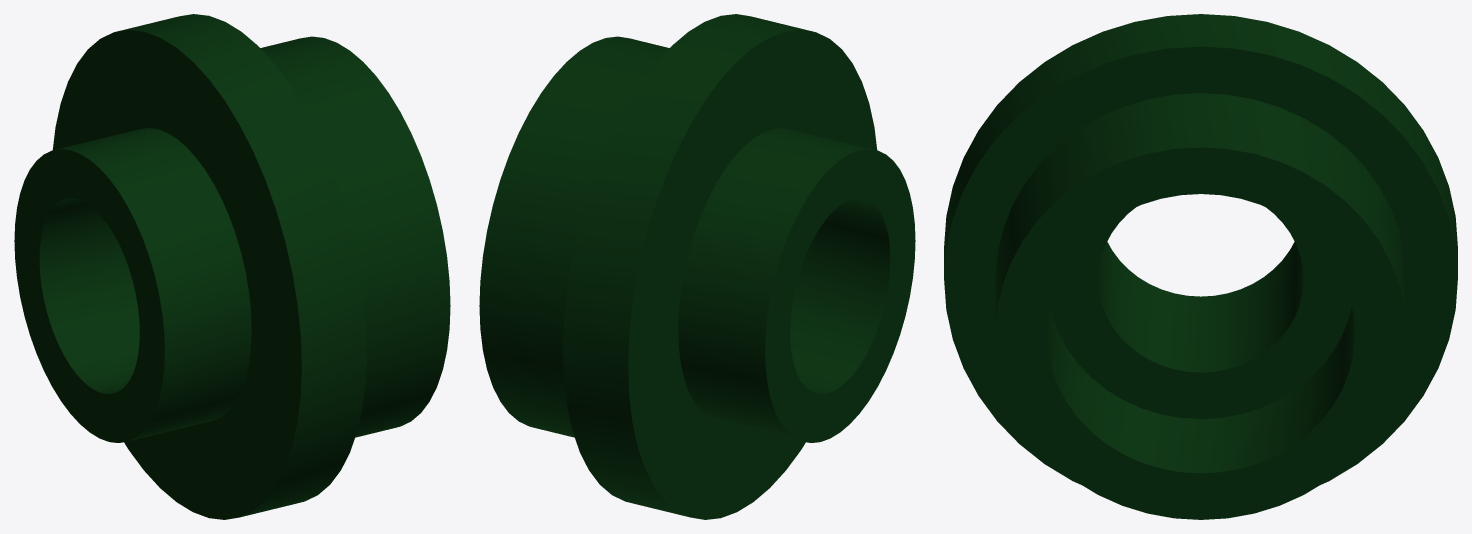
Rendered from plate_round1*1_with_open_stud_green.obj.
3 renders of one model, left to right at view 1: azimuth 30°, elevation 25°; view 2: azimuth 150°, elevation 25°; view 3: azimuth 270°, elevation 25°, orthographic. The views are drawn at different scales.
Size of the model in its own units: 12 by 20 by 20.
